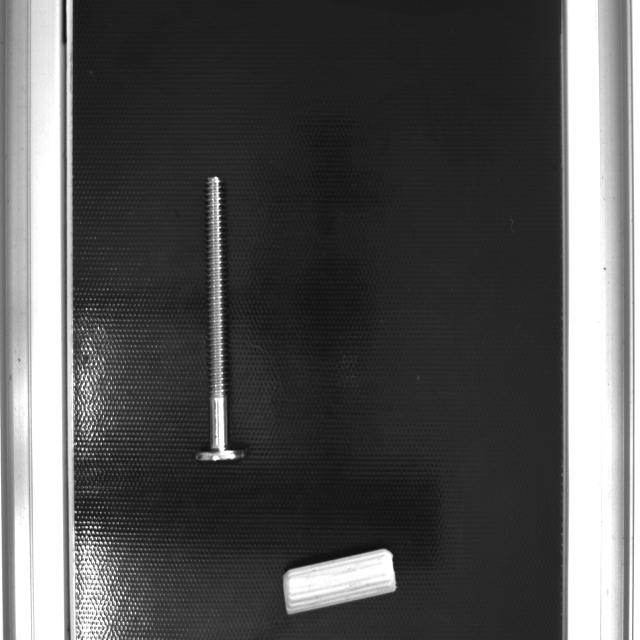Chot go: (282, 548, 399, 614)
bulon: (204, 175, 229, 450)
